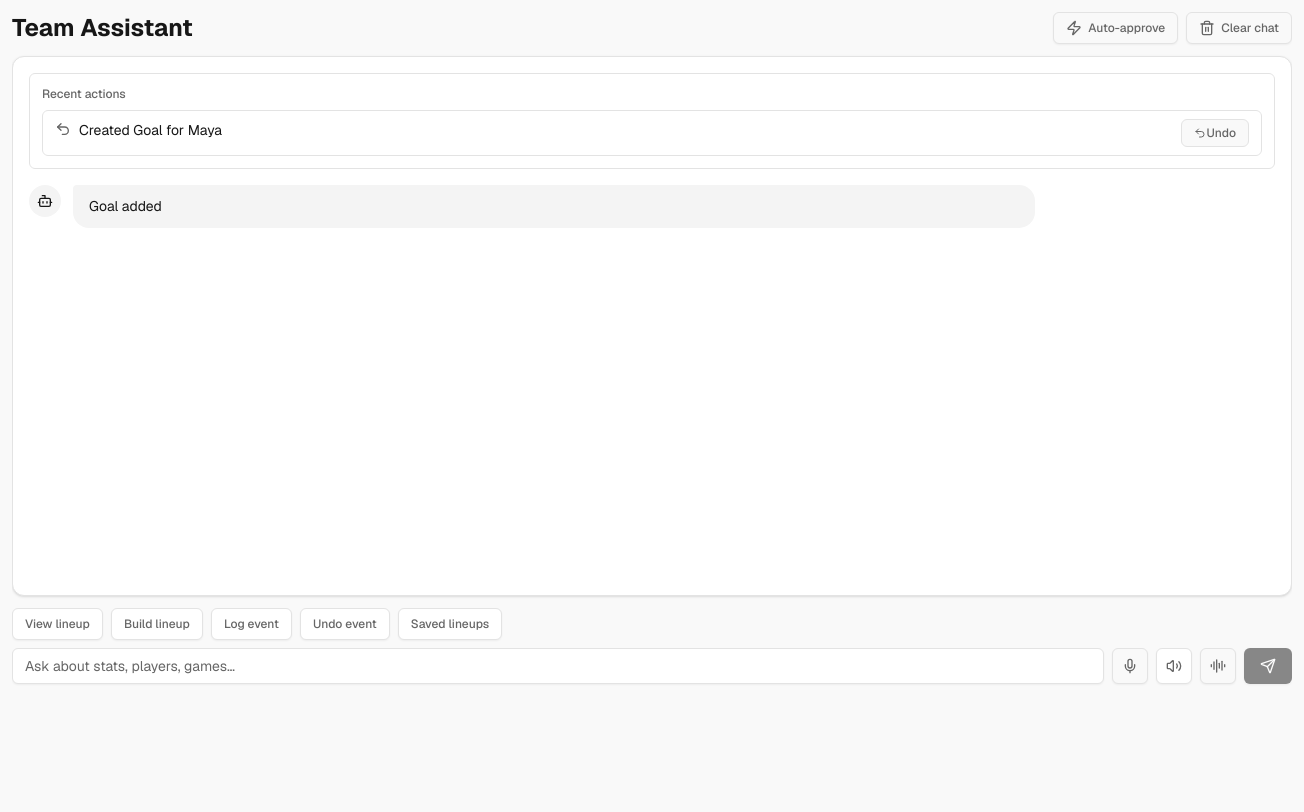
Test: Chat action receipts › shows a generic error on other undo failures
The image size is (1304, 812).
Click the button "Undo" at (1215, 133), box [1182,119,1249,147]
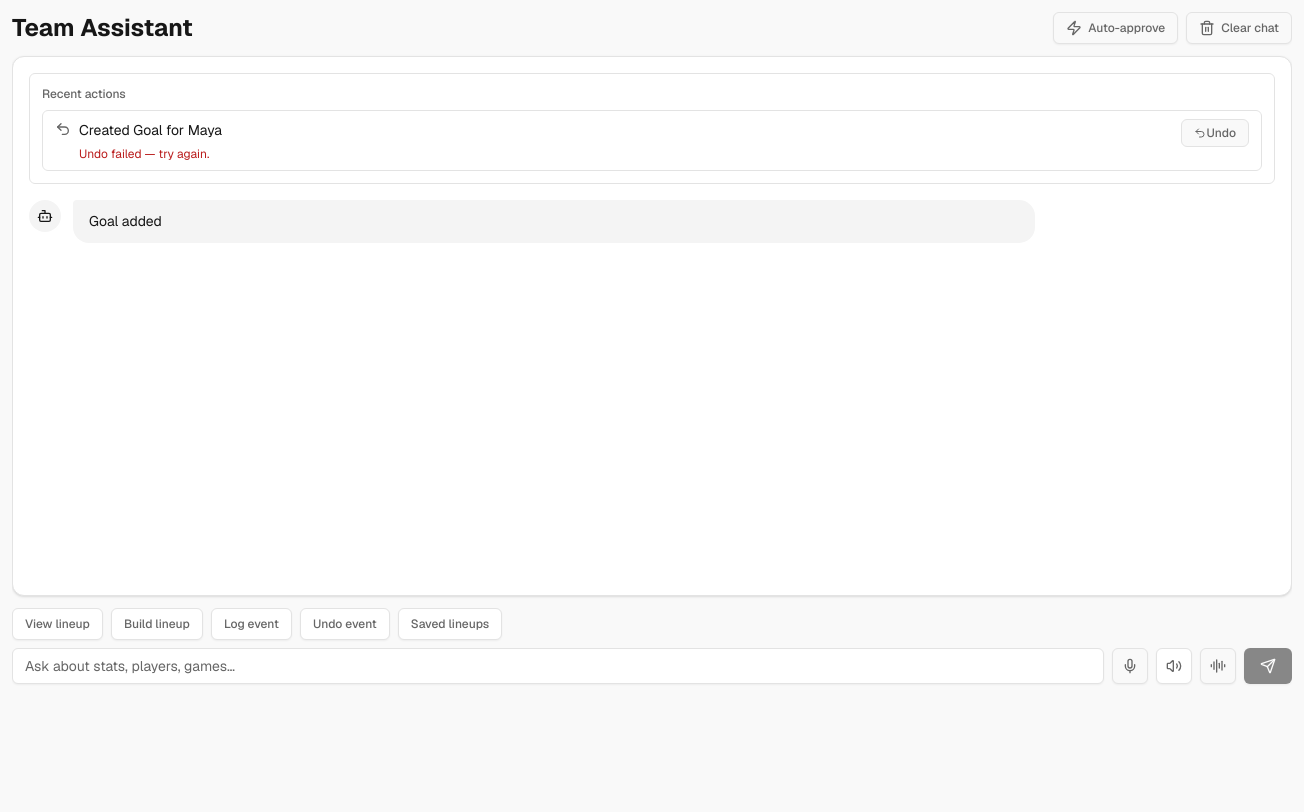
Now the text "Undo failed — try again." is shown, box [79,146,210,162]
